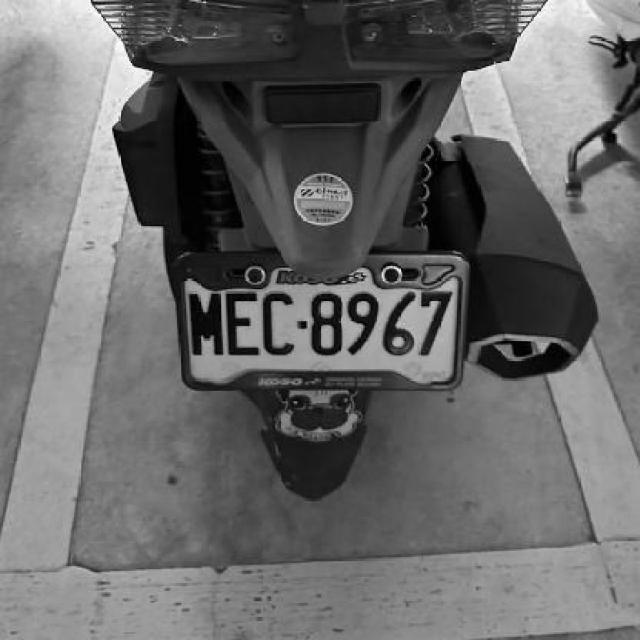-: (296, 318, 310, 331)
6: (380, 291, 418, 358)
7: (417, 289, 454, 357)
8: (311, 291, 346, 358)
9: (342, 291, 380, 357)
E: (222, 288, 258, 357)
G: (260, 287, 298, 358)
M: (188, 291, 225, 360)
